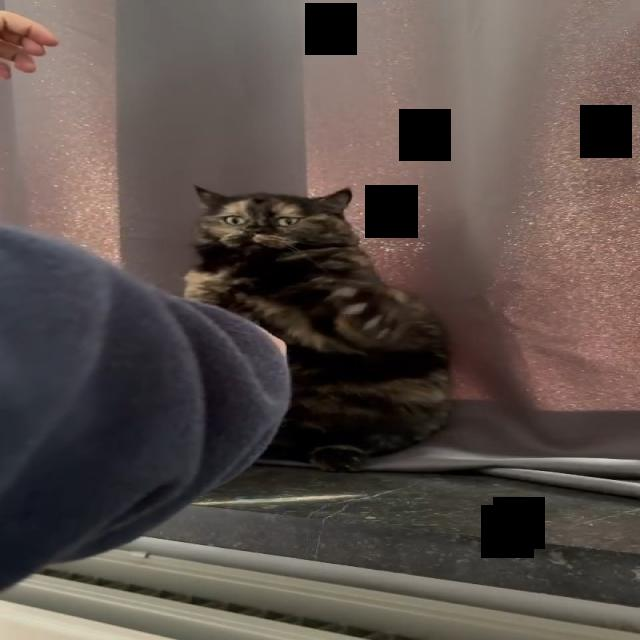authorized: (180, 183, 453, 472)
